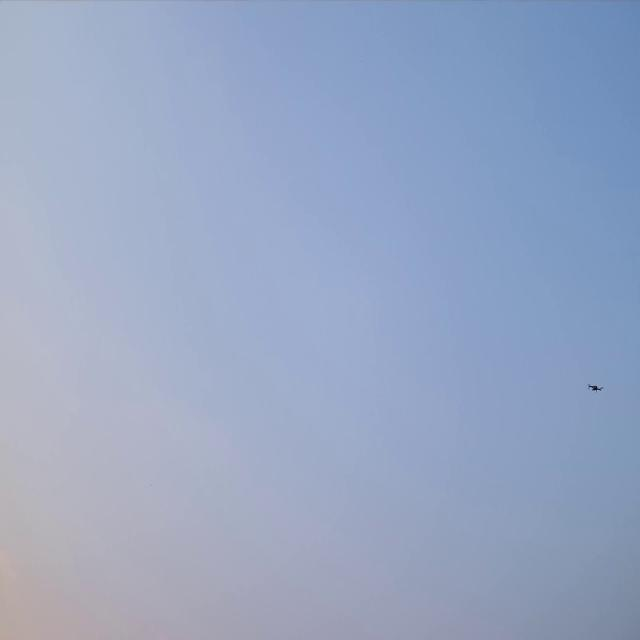UAV: (589, 384, 602, 390)
